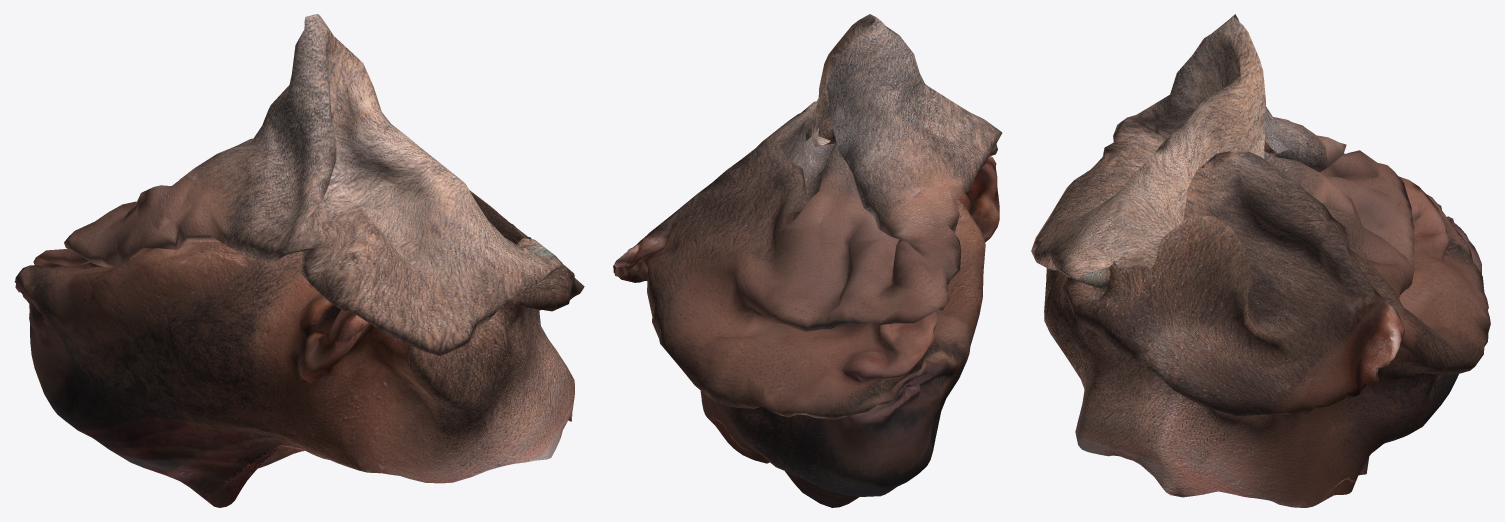
Rendered from BUSTO.gltf.
3 renders of one model, left to right at view 1: azimuth 30°, elevation 25°; view 2: azimuth 150°, elevation 25°; view 3: azimuth 270°, elevation 25°, orthographic. The views are drawn at different scales.
Visible parts, largest first — view 1: Scan_61_PP.001; view 2: Scan_61_PP.001; view 3: Scan_61_PP.001.
Part boxes in pixels (<box>): Scan_61_PP.001: <box>14,14,584,507</box>; Scan_61_PP.001: <box>613,14,1002,507</box>; Scan_61_PP.001: <box>1031,14,1490,507</box>.
Bounding box in the file's own units: 3.35 × 3.86 × 3.45.
Materials: 1 (1 with a texture image).
